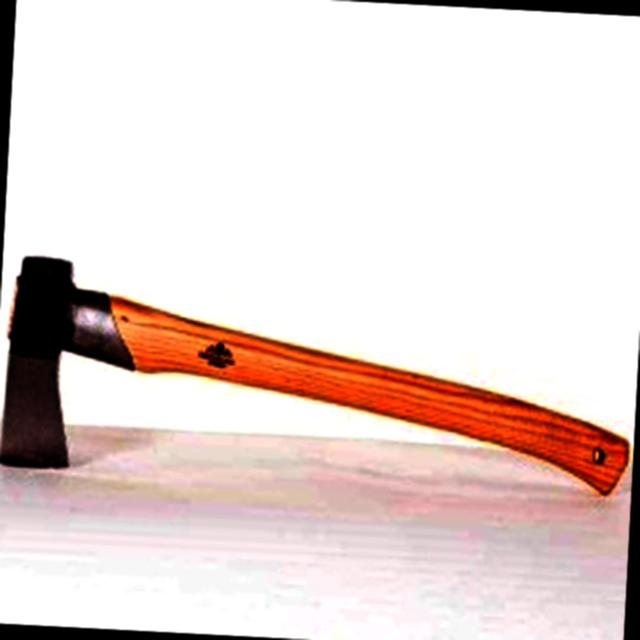ax: (0, 242, 640, 515)
